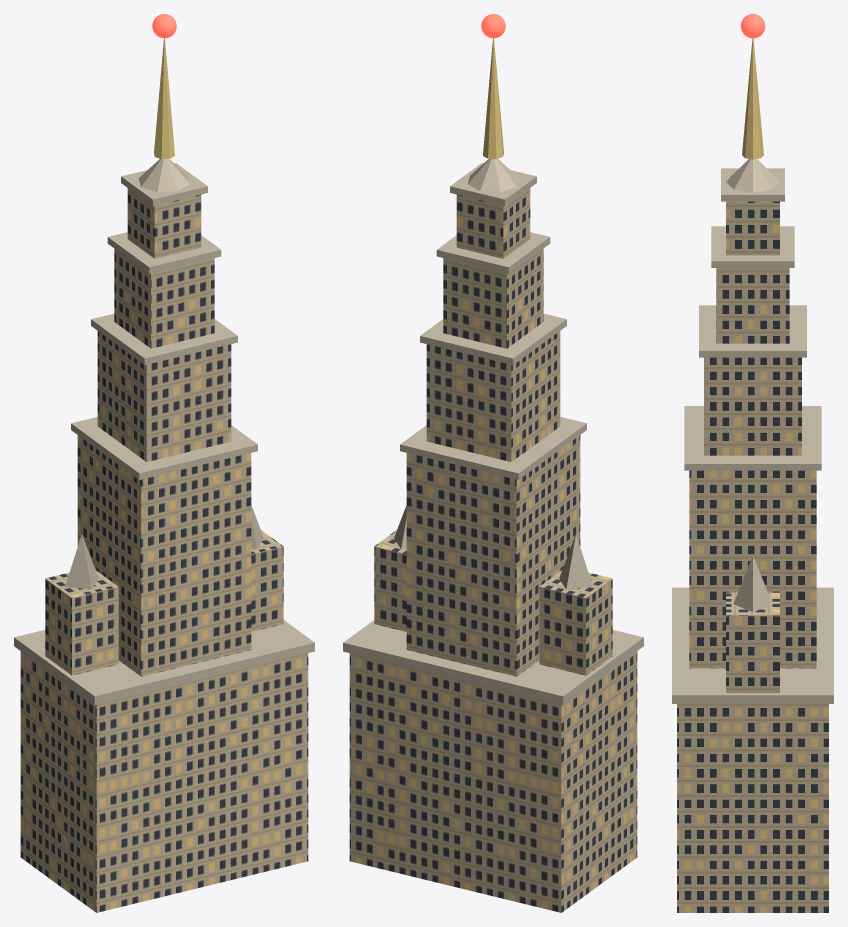
Rendered from stalin.glb.
3 views of the same model, side by side, from view 1: azimuth 30°, elevation 25°; view 2: azimuth 150°, elevation 25°; view 3: azimuth 270°, elevation 25° (orthographic).
Parts seen in each view (by area): view 1: imp-stalin; view 2: imp-stalin; view 3: imp-stalin.
Part boxes in pixels (<box>): imp-stalin: <box>14,14,314,912</box>; imp-stalin: <box>343,14,643,912</box>; imp-stalin: <box>672,14,833,912</box>.
Bounding box in the file's own units: 1.04 × 3.81 × 0.66.
4 materials, 1 textured.
